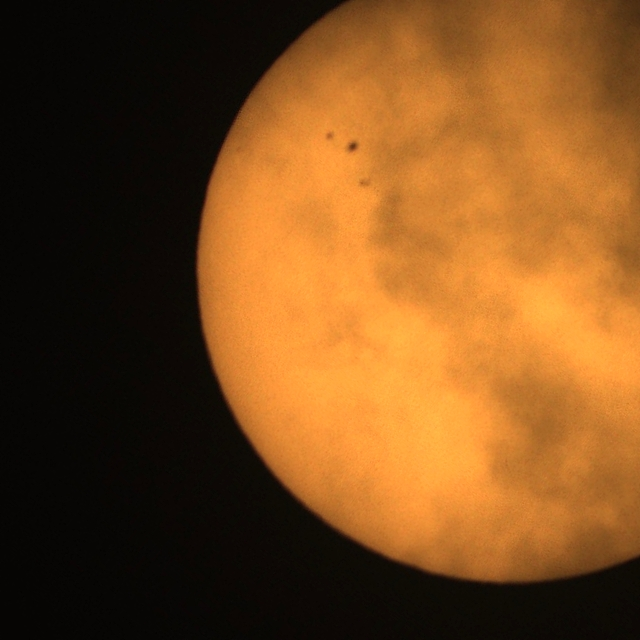sunspot: (323, 130, 361, 155), (346, 139, 359, 155), (359, 176, 373, 189), (325, 130, 335, 142)
